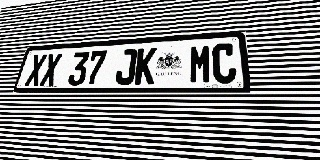3: (67, 52, 90, 86)
7: (84, 50, 107, 85)
C: (212, 43, 237, 84)
J: (115, 49, 137, 85)
K: (134, 47, 157, 85)
M: (189, 44, 212, 84)
X: (39, 53, 62, 86), (24, 54, 47, 86)
